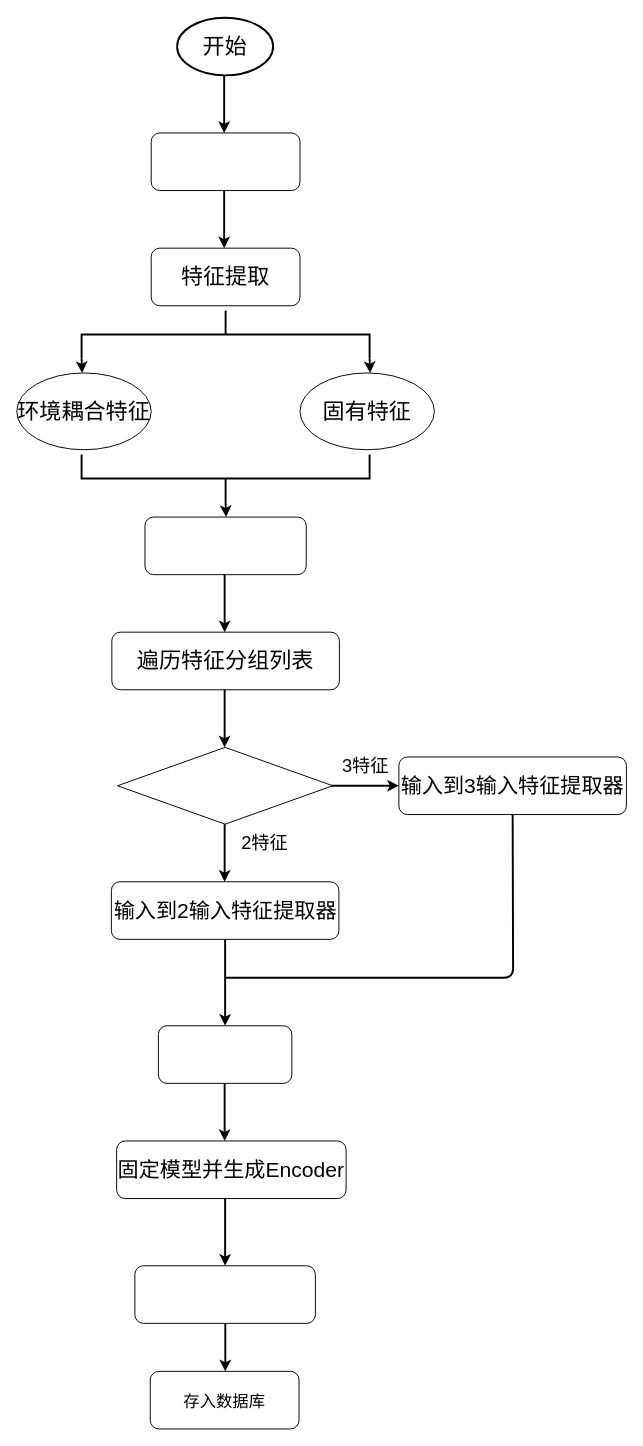
This 643x1446 diagram has some shape labels left out. The centre of each missing label's shape, as x and y in pixels:
2特征输入？3特征输入？: (x=225, y=785)
保存Encoder为.pth格式: (x=224, y=1294)
声音片段输入: (x=225, y=161)
模型训练: (x=224, y=1054)
特征分组与处理: (x=225, y=545)
